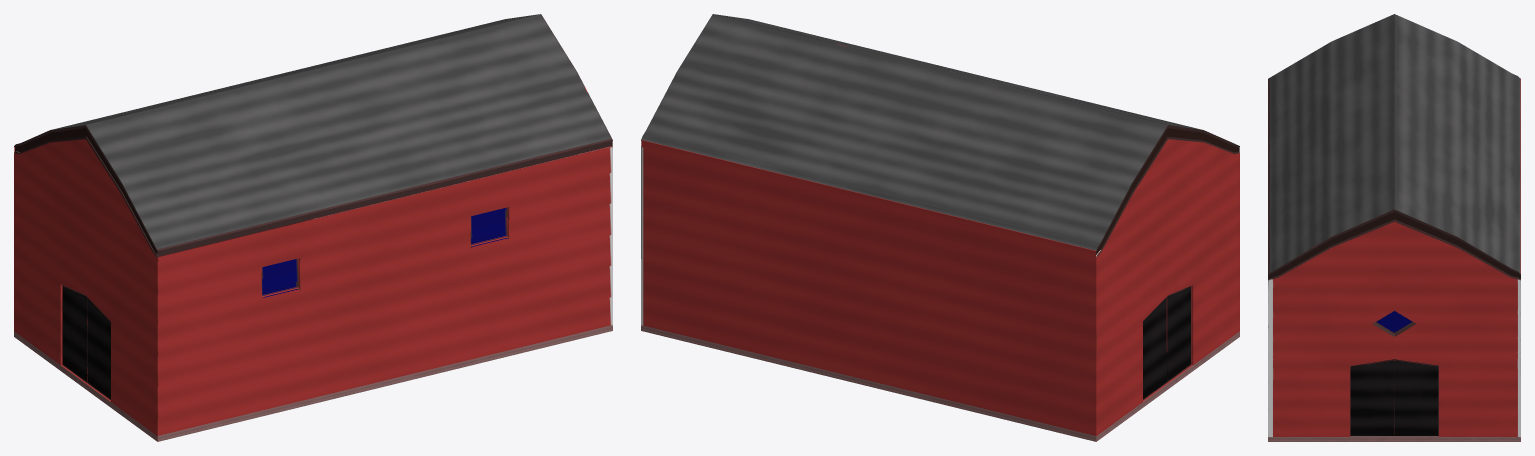
The model's file is Barn.fbx.
3 views of the same model, side by side, from view 1: azimuth 30°, elevation 25°; view 2: azimuth 150°, elevation 25°; view 3: azimuth 270°, elevation 25° (orthographic). The views are drawn at different scales.
Parts seen in each view (by area): view 1: Barn EXP; view 2: Barn EXP; view 3: Barn EXP.
Boxes of the visible parts, bbox=[...] form: Barn EXP: bbox=[14, 14, 612, 441]; Barn EXP: bbox=[641, 14, 1239, 441]; Barn EXP: bbox=[1268, 14, 1520, 441].
Size of the model in its own units: 1011 by 561 by 552.
